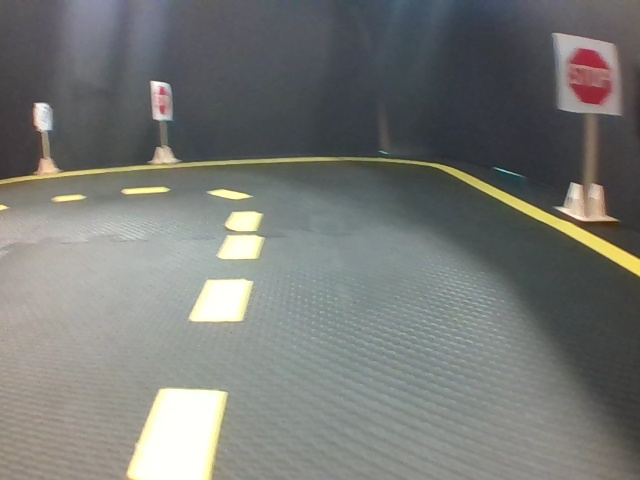no30: (33, 102, 52, 132)
stop: (554, 35, 620, 116), (151, 83, 172, 118)
